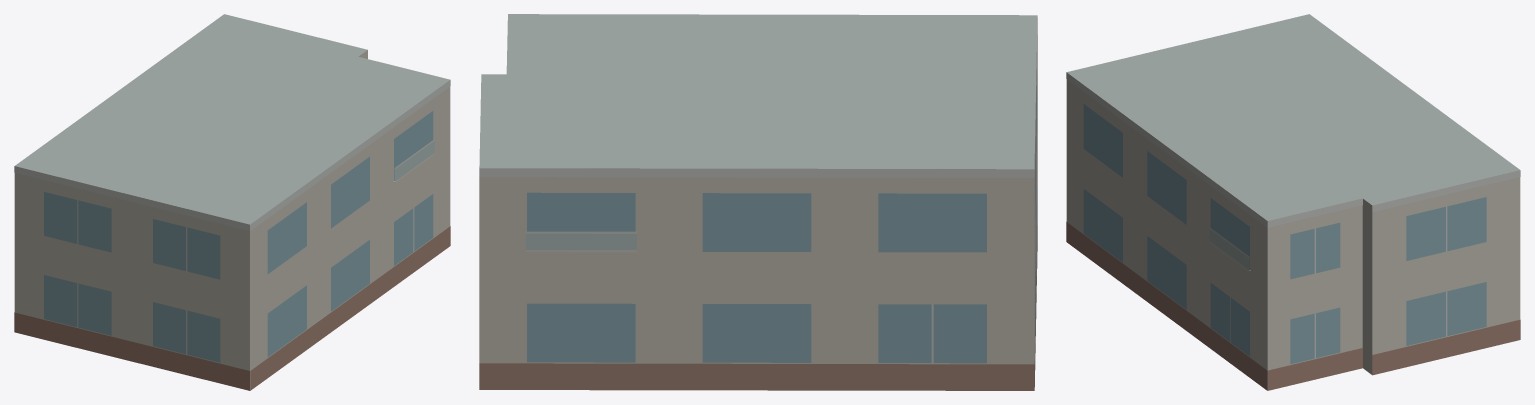
Rendered from survey-upis-32773679.glb.
3 renders of one model, left to right at view 1: azimuth 30°, elevation 25°; view 2: azimuth 150°, elevation 25°; view 3: azimuth 270°, elevation 25°, orthographic. The views are drawn at different scales.
Visible parts, largest first — view 1: survey-upis-32773679.tmp; view 2: survey-upis-32773679.tmp; view 3: survey-upis-32773679.tmp.
Boxes of the visible parts, x1=… form: survey-upis-32773679.tmp: x1=14, y1=14, x2=450, y2=390; survey-upis-32773679.tmp: x1=479, y1=14, x2=1037, y2=390; survey-upis-32773679.tmp: x1=1066, y1=14, x2=1520, y2=390.
Bounding box in the file's own units: 15.96 × 6.1 × 14.79.
